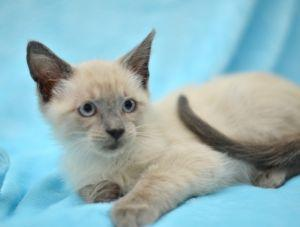siamese: (22, 28, 168, 161)
